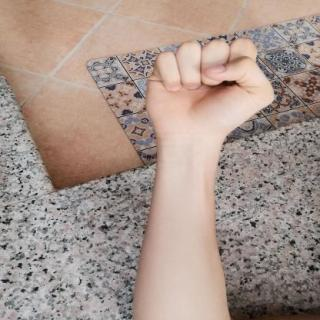SAD: (130, 25, 285, 151)
